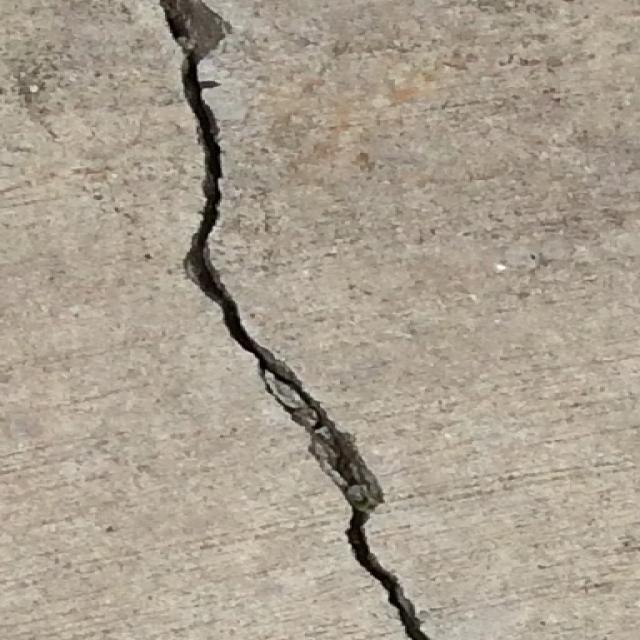Longitudinal: (149, 0, 436, 640)
